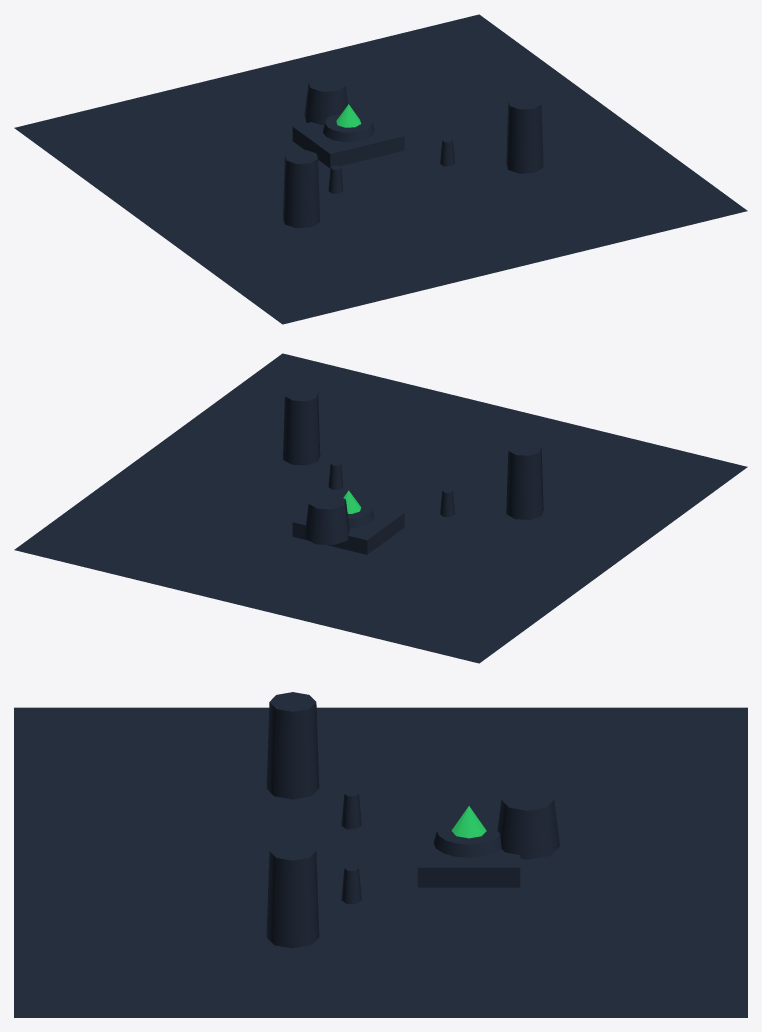
File: dng_06.glb
The picture shows the model from 3 angles, top to bottom: view 1: azimuth 30°, elevation 25°; view 2: azimuth 150°, elevation 25°; view 3: azimuth 270°, elevation 25°; orthographic projection. The views are drawn at different scales.
Parts seen in each view (by area): view 1: scenario_base_floor, DNG_06, dungeon_gorgon_altar; view 2: scenario_base_floor, DNG_06; view 3: scenario_base_floor, DNG_06, dungeon_gorgon_altar, dungeon_green_fire.
Part boxes in pixels (<box>): scenario_base_floor: <box>14,14,747,324</box>; DNG_06: <box>283,76,543,228</box>; dungeon_gorgon_altar: <box>323,113,374,142</box>; scenario_base_floor: <box>14,353,747,663</box>; DNG_06: <box>283,387,543,554</box>; scenario_base_floor: <box>14,707,747,1017</box>; DNG_06: <box>266,692,559,948</box>; dungeon_gorgon_altar: <box>433,818,501,857</box>; dungeon_green_fire: <box>451,806,486,838</box>.
Bounding box in the file's own units: 50 × 6.5 × 50.
